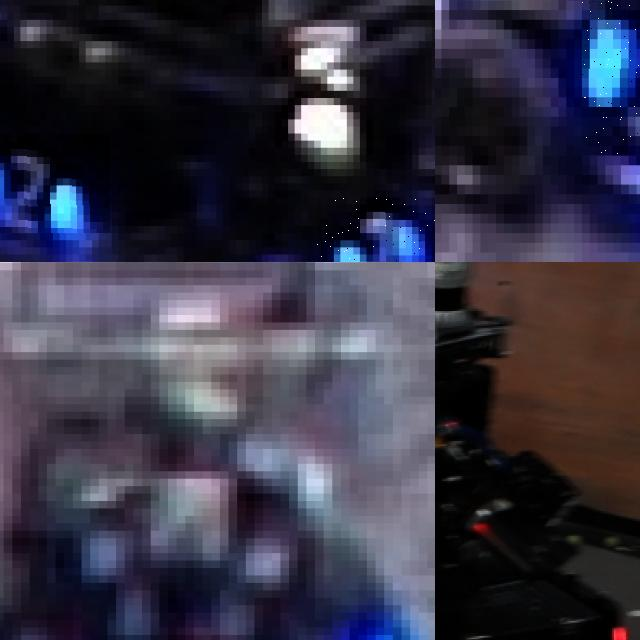B2: (0, 133, 111, 233), (317, 197, 434, 262)
B3: (581, 0, 640, 155)
